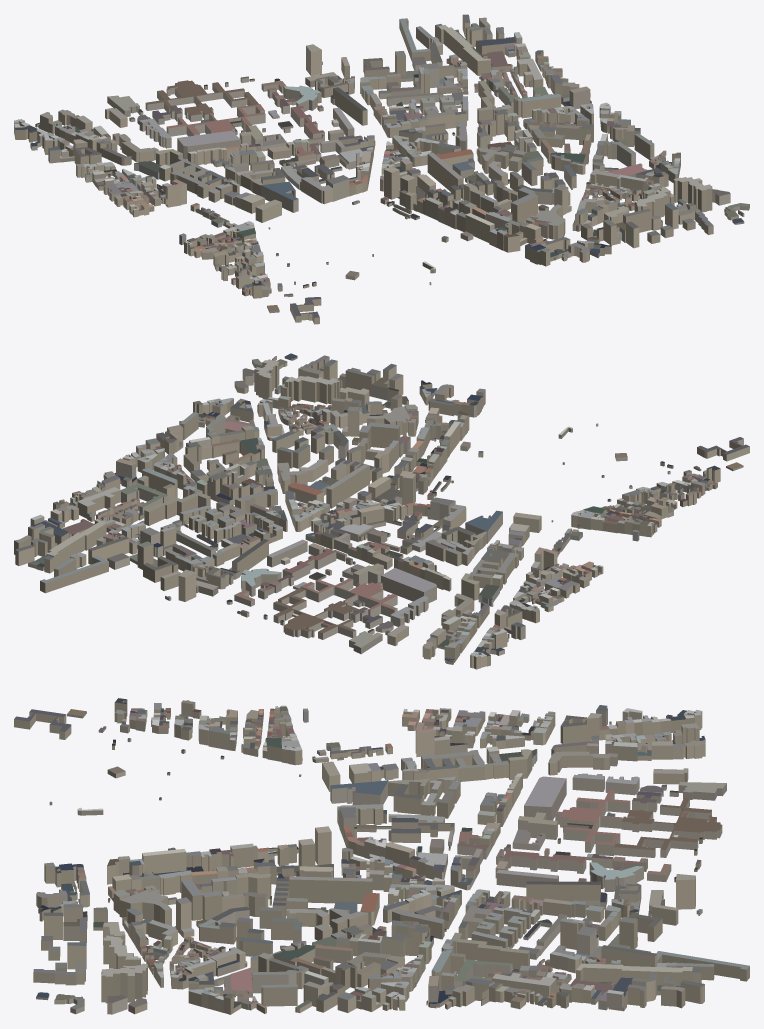
3 views of the same model, one above another, from view 1: azimuth 30°, elevation 25°; view 2: azimuth 150°, elevation 25°; view 3: azimuth 270°, elevation 25° (orthographic). The views are drawn at different scales.
Visible parts, largest first — view 1: tuile; view 2: tuile; view 3: tuile.
Boxes of the visible parts, x1,y1,x2,y2 form: tuile: (14, 14, 749, 324); tuile: (14, 353, 749, 669); tuile: (14, 698, 749, 1014).
Bounding box in the file's own units: 1031 × 65.55 × 1114.
